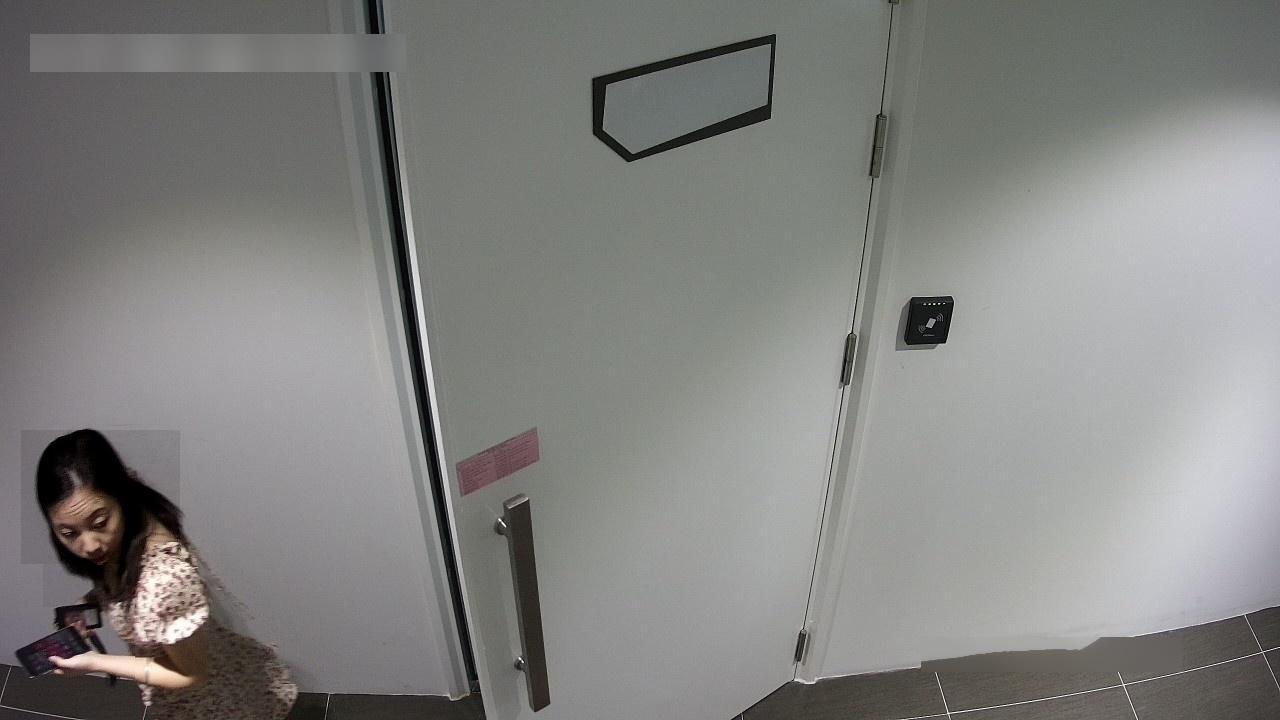no_apron: (39, 645, 135, 696)
no_gloves: (22, 431, 181, 565)
no_hairnet: (44, 522, 138, 607)
